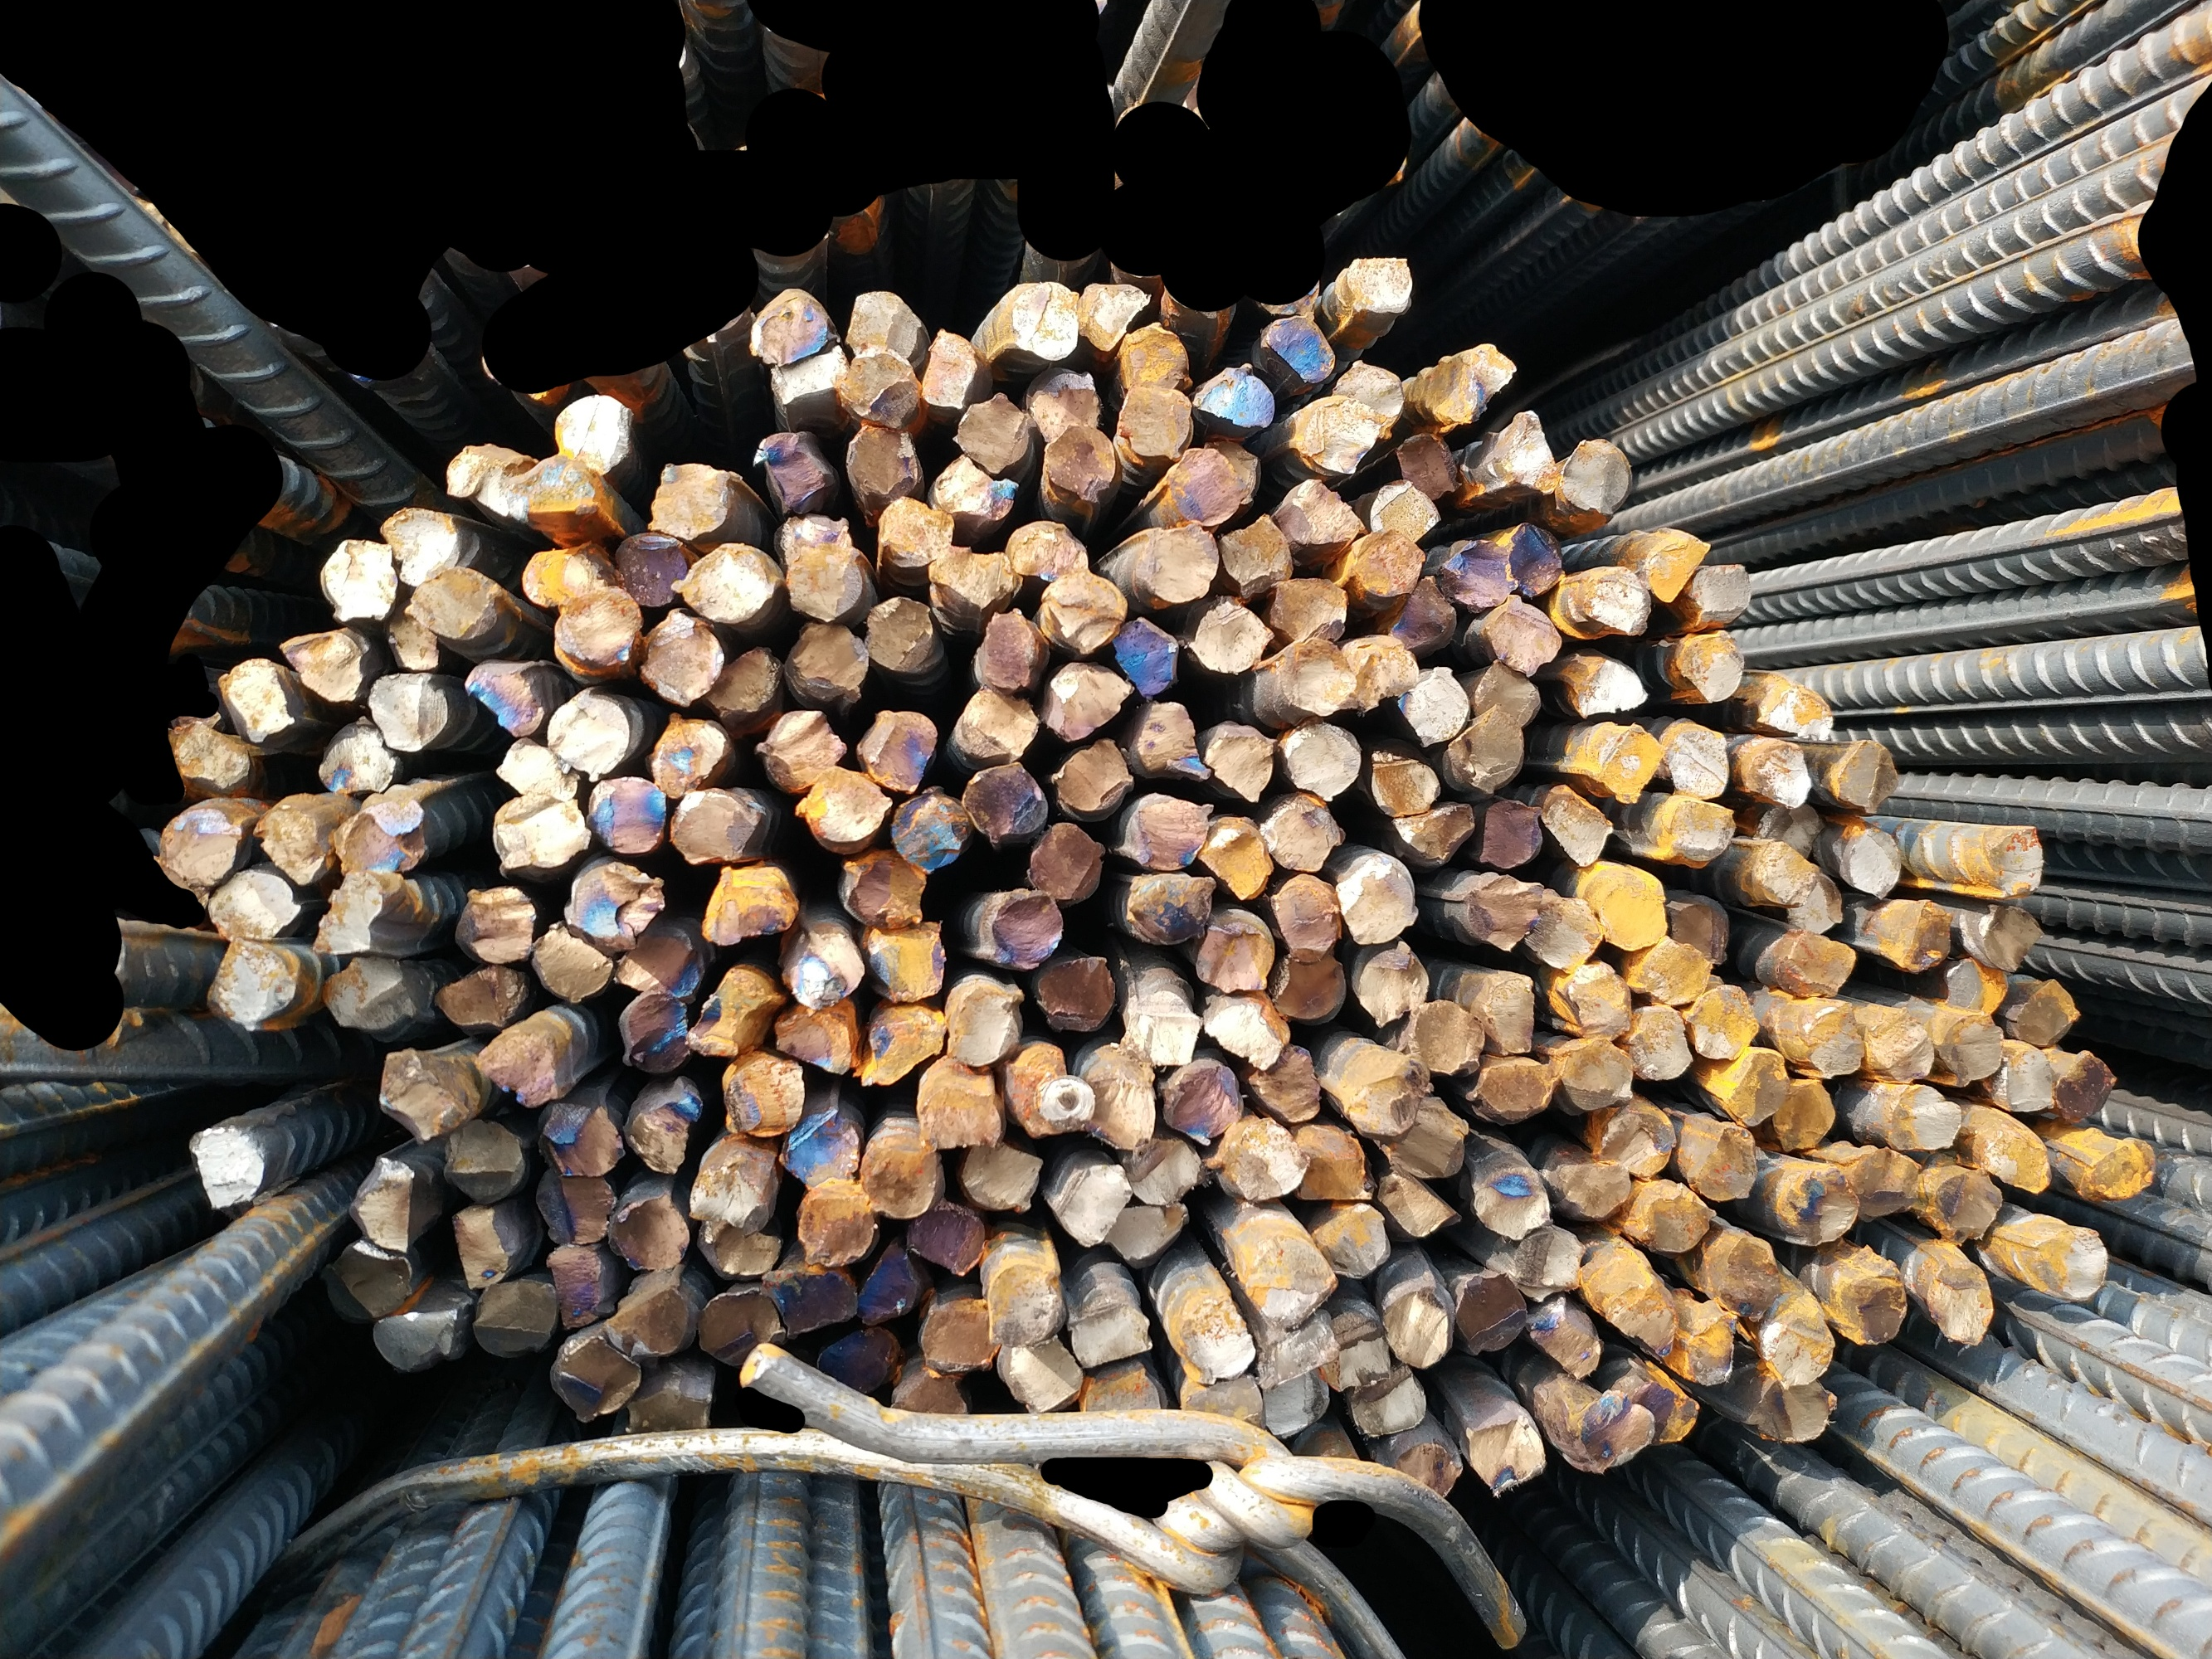rebar: (1231, 1223, 1335, 1333), (556, 857, 669, 953), (378, 1047, 485, 1141), (668, 537, 777, 627), (1072, 1040, 1157, 1154), (204, 934, 300, 1033), (687, 962, 783, 1060), (790, 763, 896, 850), (152, 803, 248, 897), (542, 685, 634, 782), (547, 1333, 643, 1425), (321, 1236, 429, 1317), (699, 859, 800, 946), (753, 706, 847, 798), (638, 606, 725, 706), (1335, 1054, 1435, 1141), (641, 458, 744, 542), (488, 791, 593, 873), (1164, 1291, 1255, 1385), (600, 1283, 695, 1371), (1213, 1115, 1311, 1202), (668, 781, 760, 871), (1374, 1091, 1469, 1178), (331, 798, 431, 882), (851, 1006, 950, 1089), (342, 1147, 418, 1255), (1112, 789, 1213, 871), (852, 1131, 943, 1222), (641, 709, 730, 802), (471, 1021, 565, 1108), (1198, 986, 1293, 1072), (943, 972, 1025, 1072), (695, 1284, 786, 1373), (948, 390, 1041, 477), (976, 887, 1069, 974), (1046, 1157, 1133, 1249), (549, 586, 643, 671), (1333, 852, 1419, 946), (622, 1089, 706, 1185), (861, 917, 952, 1004), (1429, 340, 1520, 427), (317, 535, 401, 629), (831, 349, 926, 432), (523, 917, 612, 1004), (1185, 592, 1276, 678), (373, 504, 465, 587), (467, 1277, 560, 1361), (444, 437, 537, 521), (204, 864, 300, 945), (321, 955, 418, 1033), (795, 1178, 880, 1267), (959, 762, 1048, 847), (549, 392, 640, 476), (983, 1260, 1067, 1351), (1131, 521, 1222, 605), (1297, 394, 1388, 477), (403, 566, 504, 641), (835, 850, 927, 932), (1044, 659, 1138, 739), (760, 1263, 858, 1340), (180, 1126, 267, 1211), (776, 988, 861, 1075), (1159, 1054, 1245, 1141), (1459, 1413, 1548, 1497), (1004, 1044, 1081, 1140), (441, 1119, 528, 1202), (776, 1105, 863, 1188), (718, 1054, 805, 1138), (1290, 1122, 1374, 1209), (249, 796, 331, 885), (856, 708, 938, 796), (746, 288, 837, 368), (1274, 474, 1365, 554), (310, 870, 389, 962), (584, 772, 669, 856), (1117, 986, 1203, 1070), (1259, 793, 1344, 877), (1279, 718, 1365, 802), (1780, 1164, 1863, 1249), (783, 925, 865, 1012), (957, 1134, 1044, 1216), (899, 1199, 990, 1277), (432, 958, 532, 1030), (1605, 1272, 1682, 1364), (992, 1335, 1086, 1410), (453, 882, 537, 965), (786, 619, 870, 702), (1480, 594, 1564, 678), (1572, 1392, 1656, 1476), (317, 714, 403, 796), (532, 1166, 617, 1248), (685, 1162, 770, 1244), (1032, 953, 1117, 1035), (364, 1309, 467, 1377), (502, 455, 605, 523), (160, 714, 249, 793), (216, 657, 295, 746), (1041, 575, 1130, 653), (891, 784, 969, 873), (1447, 708, 1525, 796), (615, 927, 706, 1004), (1124, 873, 1217, 948), (1745, 1373, 1839, 1446), (368, 667, 450, 751), (464, 659, 547, 741), (1021, 823, 1105, 904), (540, 1100, 626, 1180), (1401, 997, 1487, 1077), (1271, 638, 1356, 718), (1588, 720, 1668, 805), (614, 523, 692, 610), (1536, 782, 1614, 870), (1218, 509, 1295, 598), (922, 538, 1020, 608), (1253, 1321, 1351, 1391), (692, 1213, 784, 1286), (607, 1190, 689, 1272), (786, 540, 866, 624), (1353, 941, 1431, 1026), (1002, 277, 1081, 362), (1192, 356, 1278, 434), (952, 687, 1039, 763), (1199, 816, 1276, 903), (1192, 917, 1279, 993), (1560, 432, 1637, 519), (1551, 1035, 1639, 1112), (915, 1082, 1004, 1157), (1116, 1134, 1204, 1209), (1457, 875, 1546, 950), (1588, 1105, 1677, 1180), (1452, 1269, 1527, 1358), (1379, 1281, 1452, 1371), (844, 422, 926, 502), (1053, 735, 1135, 816), (1110, 610, 1180, 704), (1523, 896, 1607, 974), (1135, 699, 1211, 784), (1042, 422, 1119, 507), (1924, 1262, 2001, 1347), (277, 631, 364, 706), (1344, 1364, 1431, 1439), (1269, 873, 1344, 960), (2074, 1134, 2161, 1209), (493, 735, 582, 809), (1504, 1225, 1586, 1304), (913, 1297, 999, 1371), (1318, 1312, 1393, 1398), (621, 988, 692, 1077), (929, 450, 1018, 521), (1835, 1262, 1907, 1351), (1717, 1236, 1787, 1326), (875, 491, 955, 570), (1114, 319, 1194, 397), (1590, 870, 1668, 950), (1168, 446, 1245, 528), (1761, 1314, 1842, 1391), (701, 643, 784, 718), (1686, 1124, 1761, 1208), (1550, 969, 1635, 1042), (1539, 1157, 1633, 1223), (1462, 1058, 1558, 1122), (753, 430, 831, 509), (1311, 1202, 1391, 1279), (1116, 383, 1192, 464), (1842, 1148, 1923, 1225), (1346, 631, 1421, 713), (1468, 1162, 1550, 1237), (1265, 573, 1349, 647), (1398, 664, 1469, 749), (1628, 936, 1713, 1007), (448, 1201, 518, 1288), (1527, 1300, 1604, 1378), (1248, 1044, 1323, 1124), (844, 289, 926, 362), (861, 592, 934, 674), (1265, 948, 1347, 1021), (1656, 795, 1738, 868), (1776, 927, 1858, 1000), (1865, 1006, 1938, 1087), (1204, 721, 1276, 805), (1659, 720, 1731, 803), (540, 1239, 605, 1331), (518, 542, 605, 610), (1471, 971, 1539, 1058), (1098, 1201, 1192, 1263), (1063, 1300, 1152, 1366), (1075, 277, 1152, 354), (1375, 1166, 1454, 1241), (1574, 566, 1652, 641), (1684, 985, 1759, 1063), (1884, 1080, 1964, 1154), (1720, 1047, 1792, 1129), (1025, 369, 1109, 439), (1377, 1441, 1464, 1507), (1442, 535, 1517, 612), (1931, 1166, 2006, 1243), (2038, 1225, 2111, 1304), (854, 1241, 919, 1330), (1937, 1007, 2006, 1089), (765, 342, 849, 410), (917, 326, 980, 416), (974, 606, 1041, 692), (1492, 410, 1558, 495), (1388, 575, 1462, 650), (1077, 1364, 1171, 1424), (1393, 800, 1478, 864), (1628, 1375, 1705, 1446), (1743, 735, 1815, 812), (1623, 1006, 1693, 1084), (1642, 1192, 1720, 1262), (1884, 896, 1954, 974), (626, 1385, 720, 1443), (1004, 519, 1089, 582), (1182, 1373, 1267, 1436), (1368, 746, 1443, 817), (1982, 1126, 2057, 1197), (1349, 526, 1426, 596), (1642, 528, 1712, 605), (1832, 737, 1900, 816), (1677, 631, 1747, 706), (2010, 974, 2080, 1049), (1264, 1364, 1332, 1441), (1499, 521, 1567, 598), (1801, 1000, 1865, 1080), (1982, 823, 2046, 903), (1469, 655, 1539, 728), (1574, 652, 1649, 720), (1837, 828, 1905, 903), (1769, 1077, 1835, 1154), (1755, 680, 1835, 742), (1475, 798, 1544, 870), (1198, 434, 1265, 507), (1368, 477, 1442, 545), (1262, 315, 1337, 382), (1682, 1312, 1743, 1392), (1752, 840, 1820, 911), (1682, 559, 1754, 627), (1940, 953, 2013, 1019), (1330, 361, 1405, 425), (1396, 429, 1461, 504), (1340, 253, 1414, 317), (1754, 798, 1827, 861), (1998, 1040, 2059, 1115), (1978, 903, 2043, 972), (2057, 1051, 2118, 1124), (1670, 897, 1733, 967), (382, 599, 441, 673), (887, 1368, 967, 1422), (816, 1340, 896, 1391), (774, 509, 852, 559), (1785, 871, 1846, 936), (1297, 1422, 1365, 1473)
